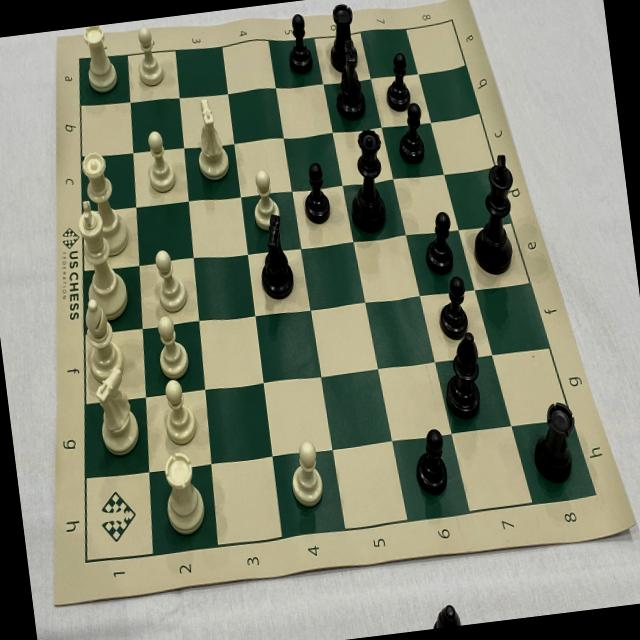black-king: (461, 147, 525, 280)
black-knight: (436, 328, 494, 424)
black-pawn: (403, 422, 453, 498), (429, 270, 474, 344), (418, 206, 459, 279), (296, 154, 336, 226), (392, 100, 431, 168), (280, 8, 317, 78), (376, 49, 414, 114)
black-queen: (339, 121, 393, 242)
black-rook: (524, 393, 583, 488), (320, 0, 362, 75)
white-bishop: (74, 290, 128, 386)
white-king: (70, 193, 134, 324)
white-knight: (86, 361, 142, 460), (250, 211, 300, 303), (186, 91, 234, 183), (326, 35, 370, 123)
white-pawn: (282, 433, 328, 511), (156, 374, 200, 448), (148, 247, 190, 317), (150, 312, 192, 381), (140, 126, 180, 198), (246, 164, 283, 233), (130, 22, 168, 88)
white-queen: (76, 146, 132, 260)
white-rook: (154, 446, 210, 540), (77, 23, 121, 95)
